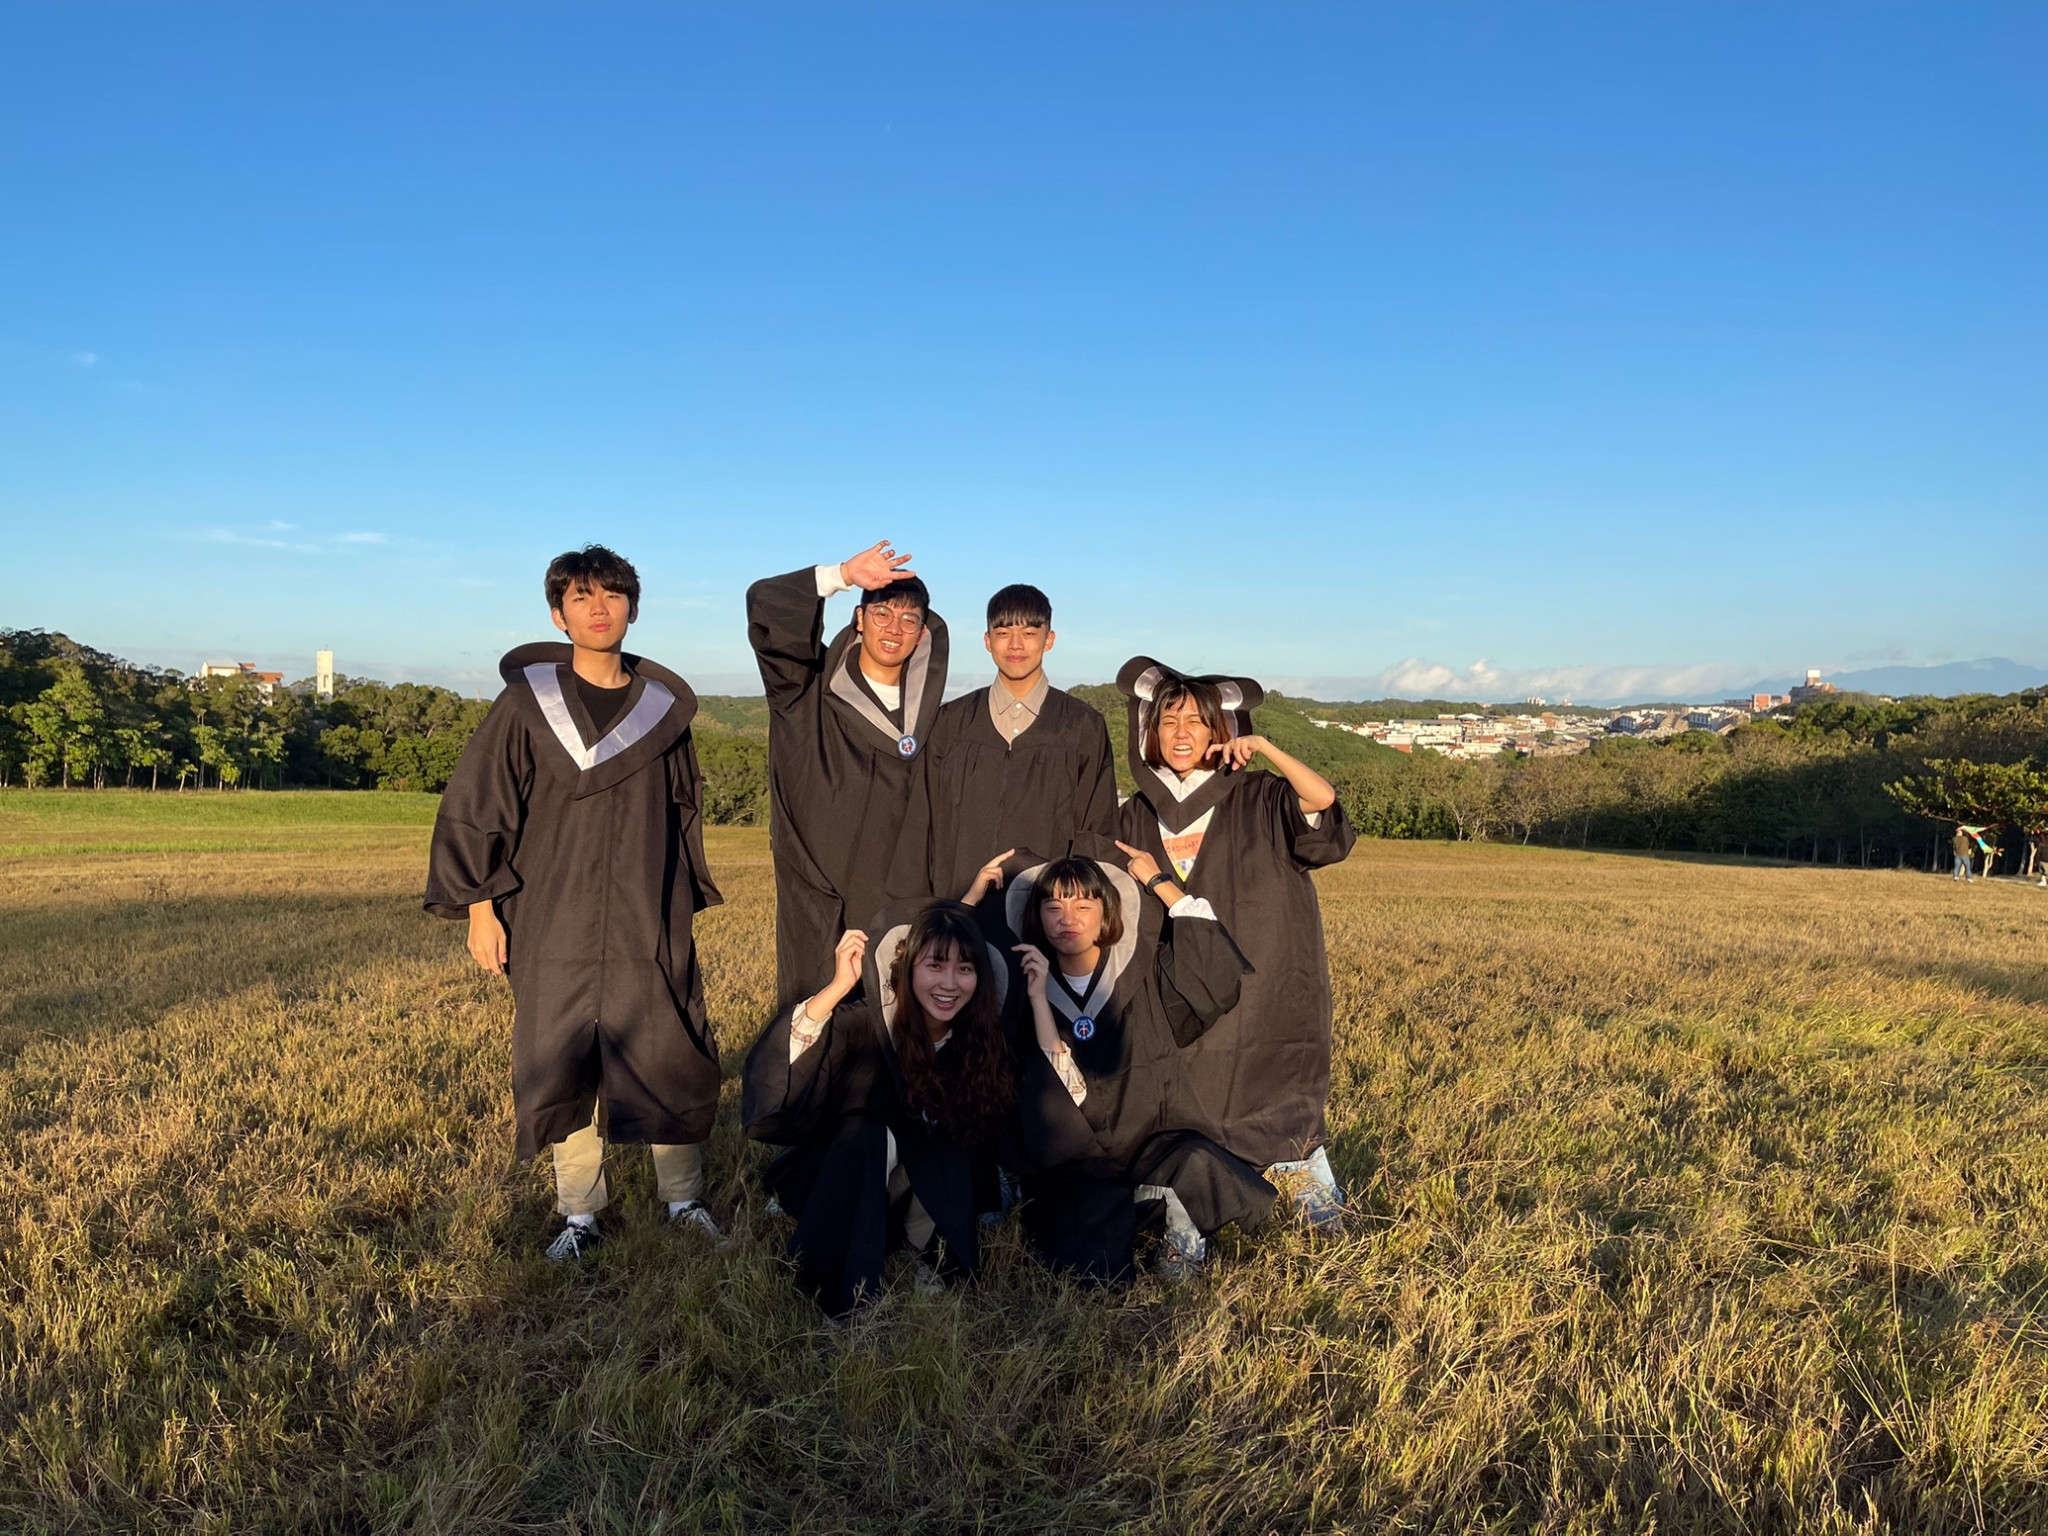people: (496, 558, 734, 1255), (1128, 675, 1334, 1240), (757, 575, 954, 1063), (769, 908, 1002, 1305), (949, 593, 1116, 1037), (990, 860, 1154, 1266)
